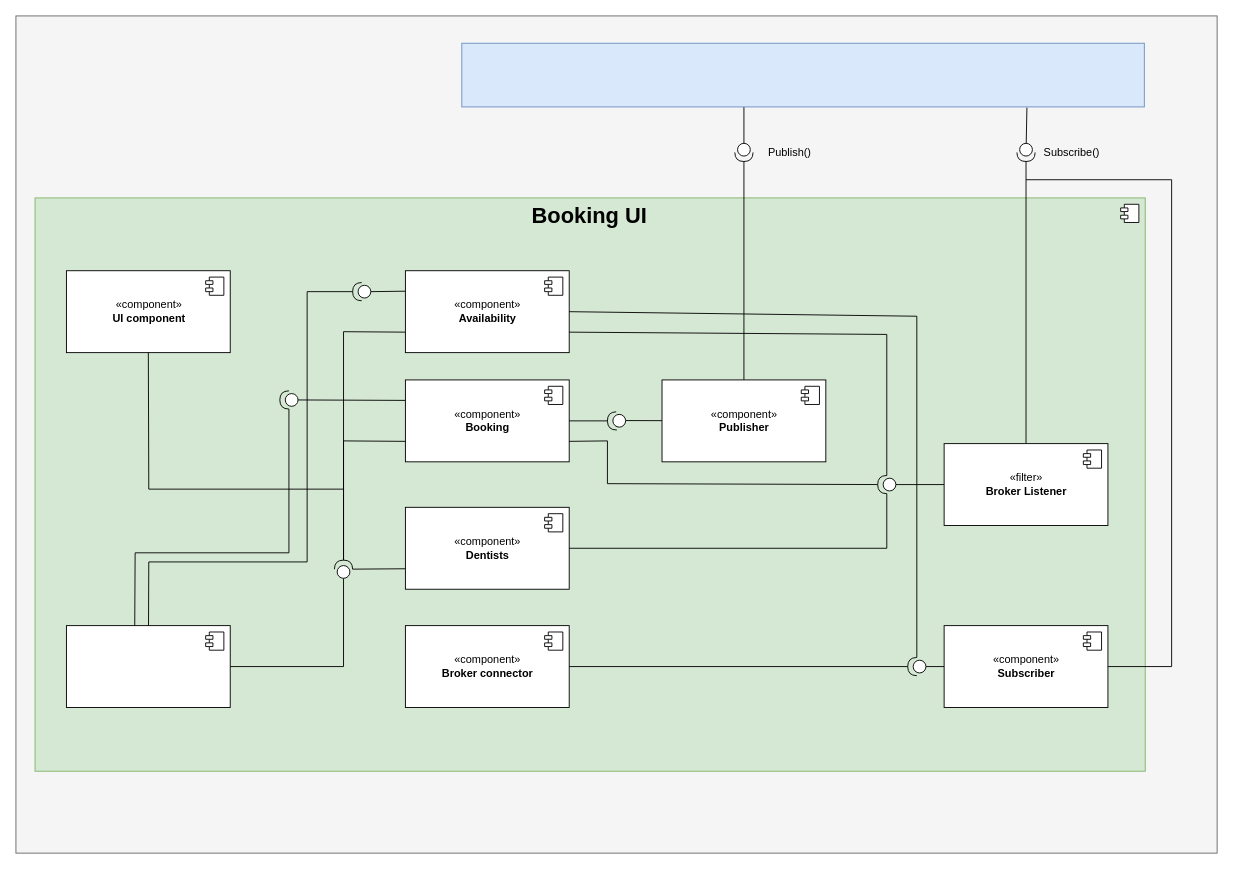
Image size: 1233x869. Some labels were removed from this diagram. The centre of each missing label's shape, as x and y in pixels:
"Mosquitto Broker" goes at (802,74).
"«component» Store" goes at (148,666).
